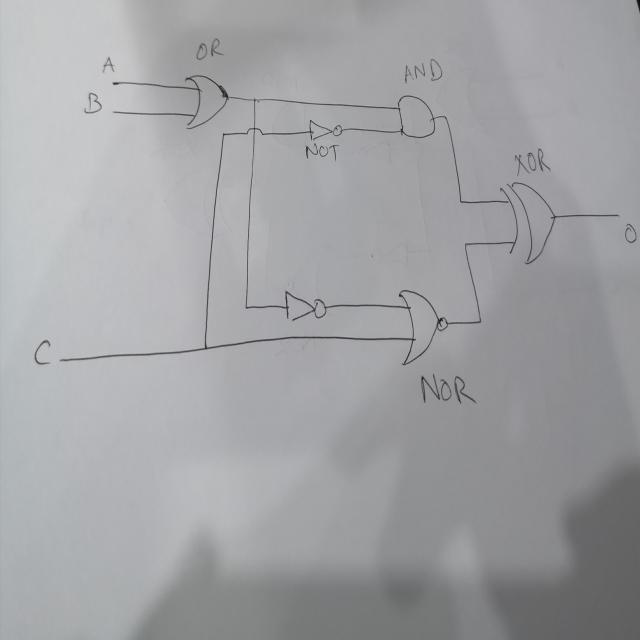crossover: (246, 120, 264, 138)
junction: (474, 310, 484, 329), (462, 238, 471, 252), (456, 194, 464, 207), (442, 110, 450, 123), (202, 341, 208, 354), (243, 302, 249, 312), (253, 94, 258, 105), (221, 131, 226, 139)
terminal: (611, 207, 623, 221), (57, 352, 65, 367), (109, 76, 116, 88), (110, 106, 116, 118)
text: (422, 370, 476, 408), (402, 56, 443, 86), (513, 148, 552, 176), (192, 38, 224, 66), (305, 142, 341, 164), (32, 335, 54, 369), (83, 85, 104, 117), (99, 53, 116, 79), (623, 221, 638, 245)
